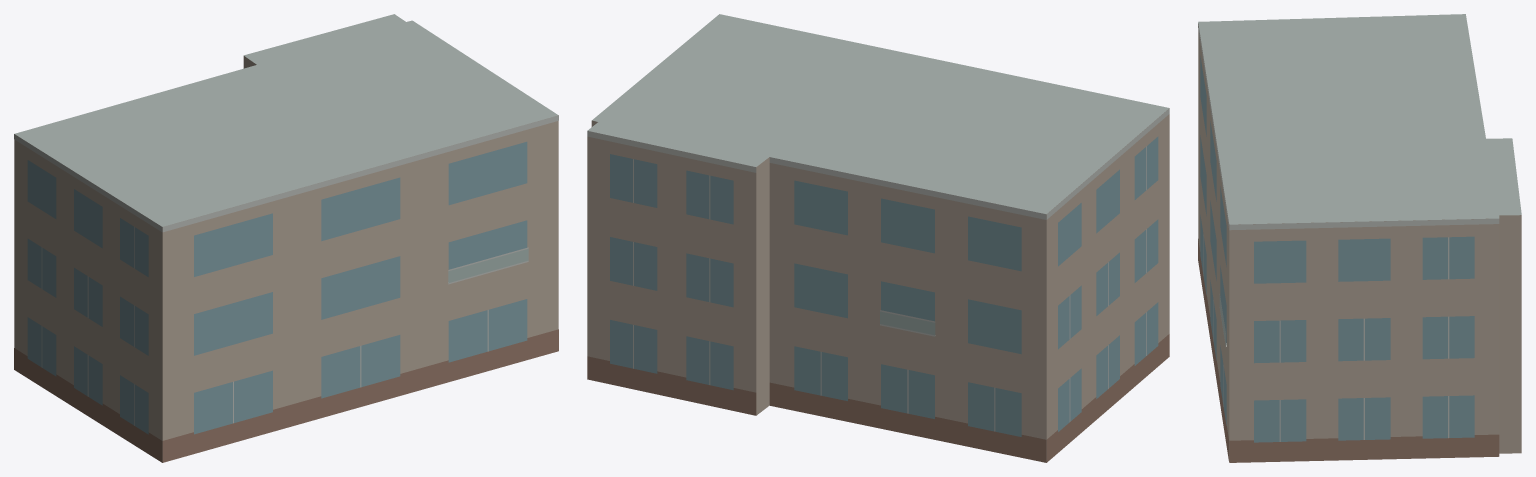
The model's file is survey-upis-32781158.glb.
3 renders of one model, left to right at view 1: azimuth 30°, elevation 25°; view 2: azimuth 150°, elevation 25°; view 3: azimuth 270°, elevation 25°, orthographic. The views are drawn at different scales.
Parts seen in each view (by area): view 1: survey-upis-32781158.tmp; view 2: survey-upis-32781158.tmp; view 3: survey-upis-32781158.tmp.
Boxes of the visible parts, left/top/right/bottom form: survey-upis-32781158.tmp: left=14, top=14, right=558, bottom=462; survey-upis-32781158.tmp: left=587, top=14, right=1169, bottom=462; survey-upis-32781158.tmp: left=1198, top=14, right=1521, bottom=462.
Bounding box in the file's own units: 19.92 × 10.5 × 12.94.
